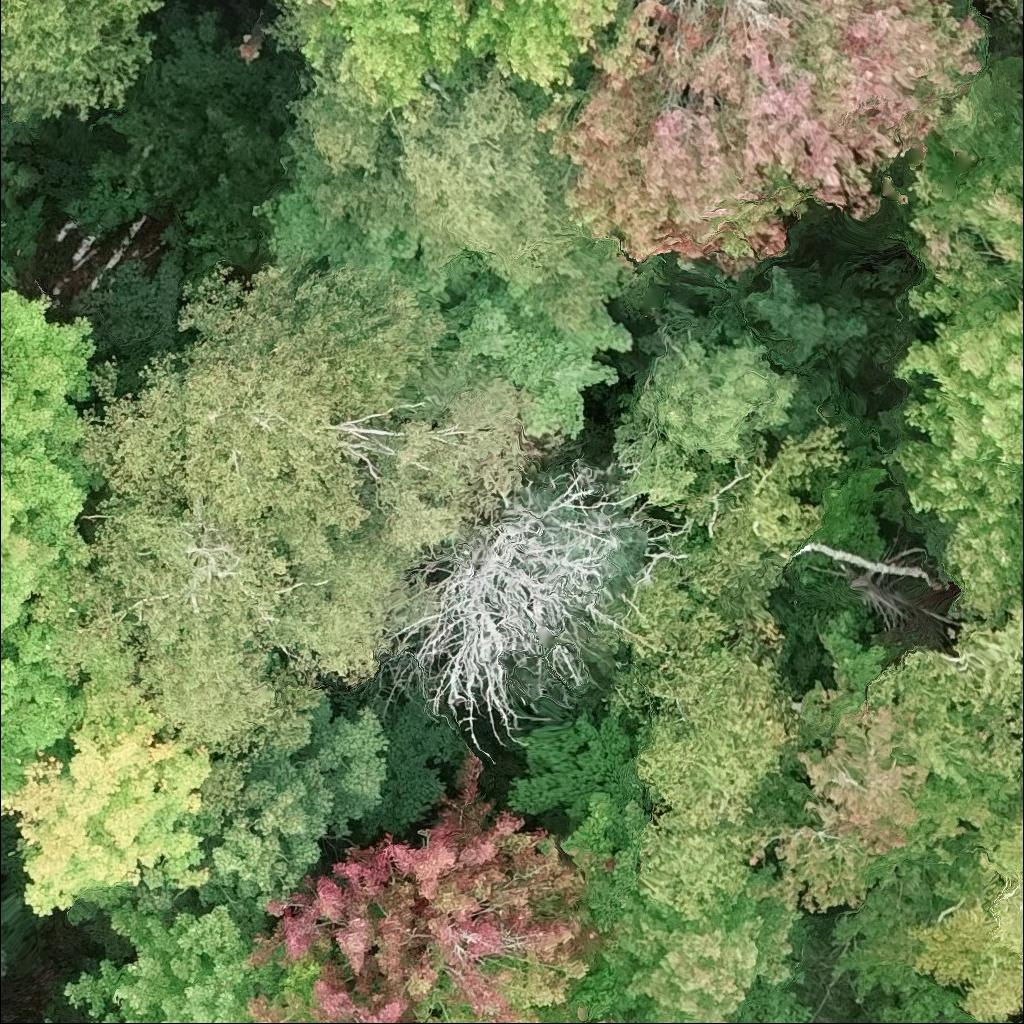crown: (26, 258, 539, 759), (539, 0, 990, 273), (242, 750, 607, 1023), (377, 454, 695, 762), (134, 671, 468, 942), (745, 608, 1023, 918), (598, 423, 849, 723), (288, 63, 585, 288), (0, 214, 99, 789), (886, 277, 1023, 624), (538, 862, 819, 1023), (0, 713, 212, 922), (289, 0, 634, 118), (868, 591, 1023, 804), (629, 649, 806, 829), (61, 898, 280, 1023), (905, 805, 1023, 1023), (908, 98, 1023, 304), (0, 0, 165, 125), (632, 818, 756, 923), (922, 57, 1023, 160), (991, 0, 1023, 18), (280, 0, 337, 8), (41, 1016, 66, 1023), (589, 1017, 618, 1023)
